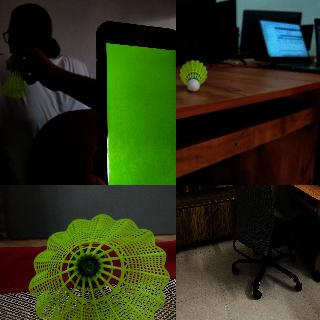shuttlecock: (28, 213, 170, 319), (179, 59, 207, 91), (1, 67, 26, 97)
